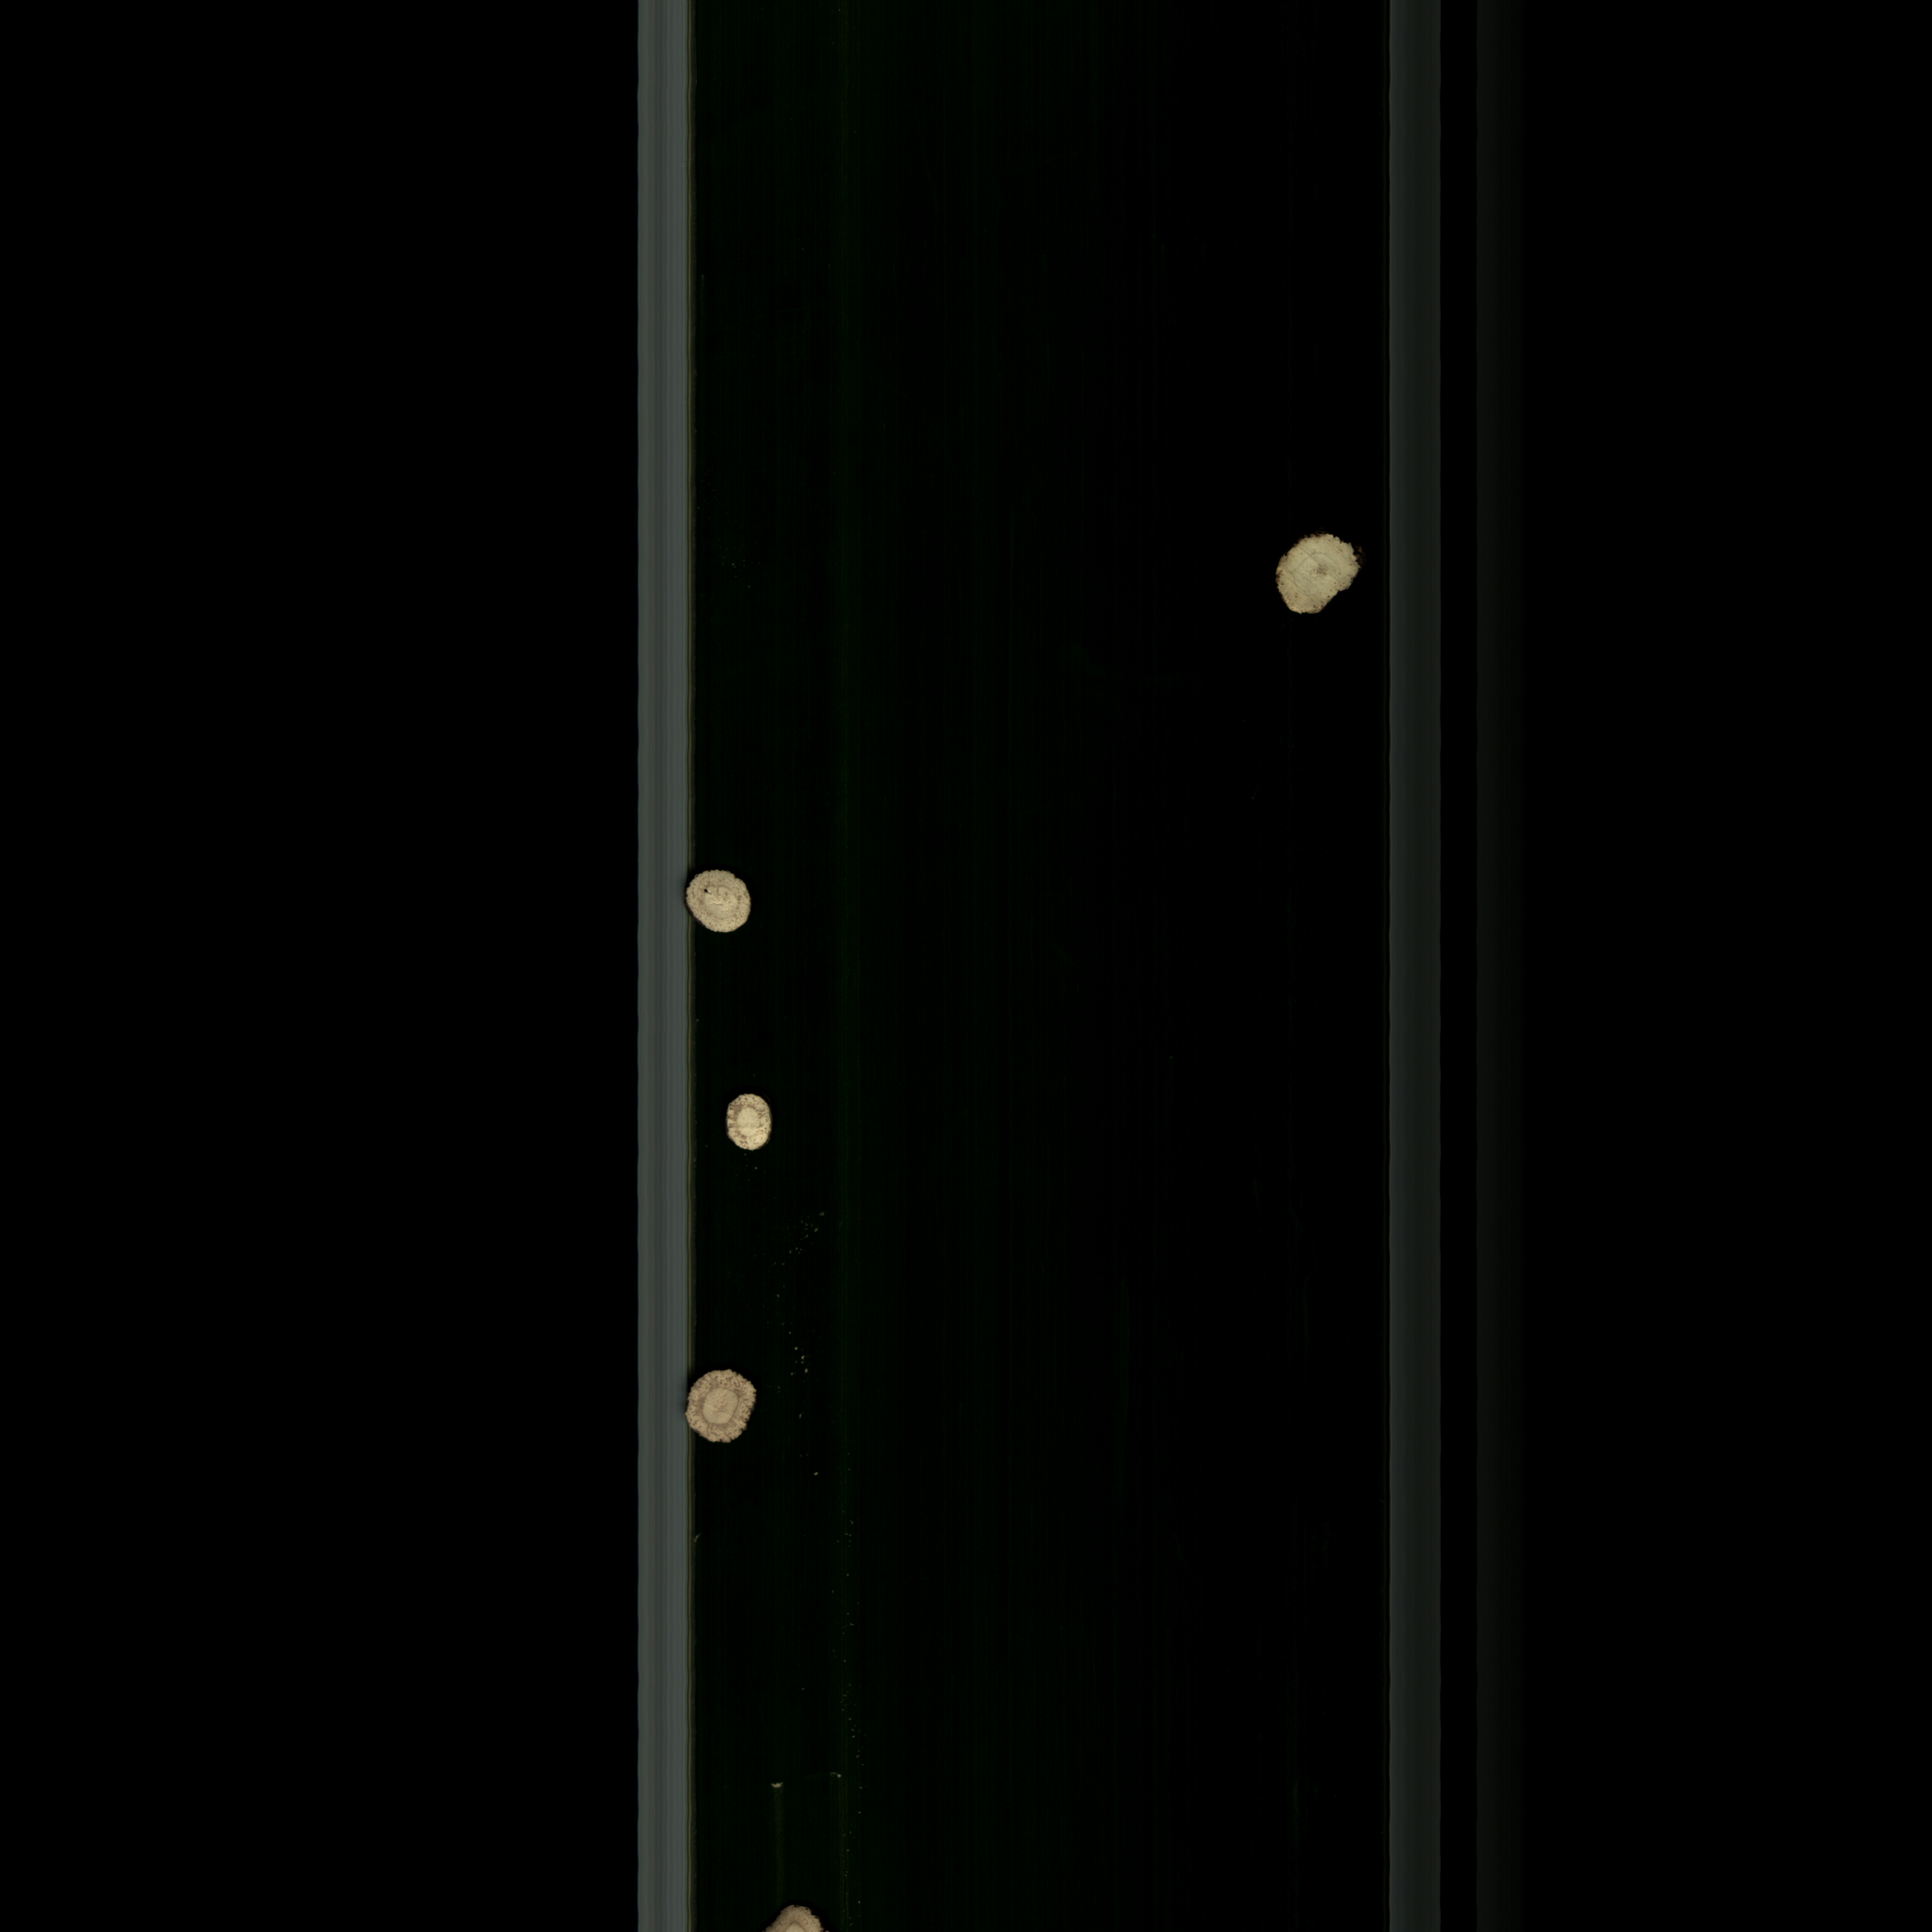distortion: (1267, 525, 1368, 625)
hole: (679, 863, 766, 947)
moldy: (683, 1361, 766, 1458), (755, 1895, 837, 1932)
